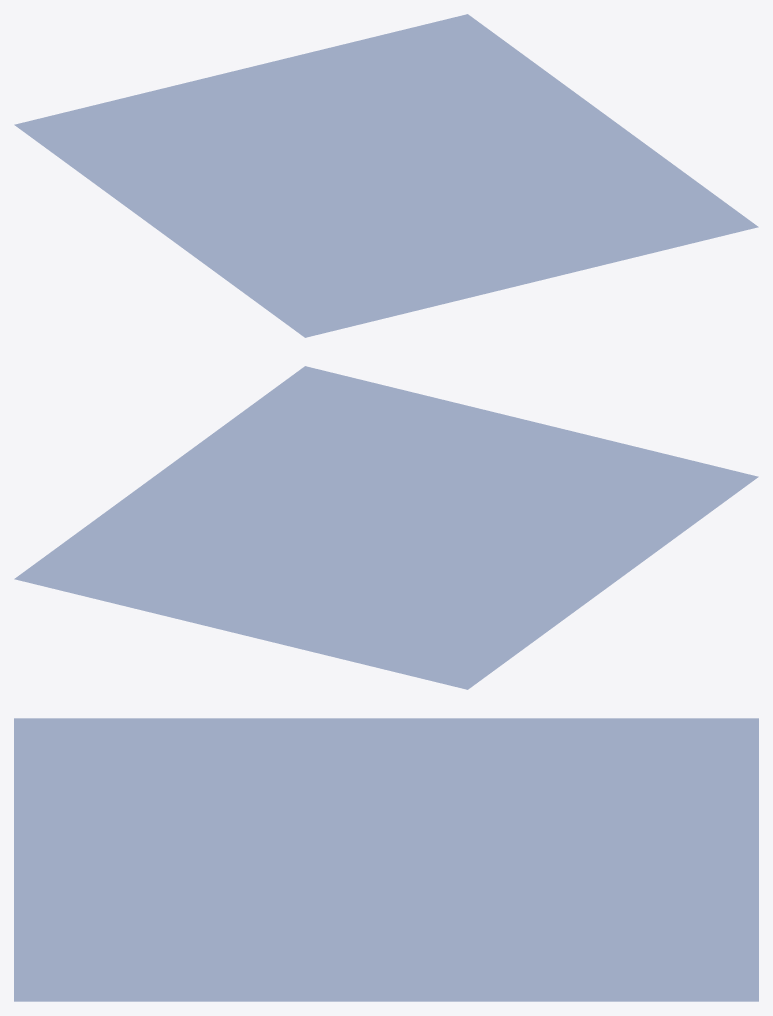
File: krush.glb
The picture shows the model from 3 angles, top to bottom: view 1: azimuth 30°, elevation 25°; view 2: azimuth 150°, elevation 25°; view 3: azimuth 270°, elevation 25°; orthographic projection. The views are drawn at different scales.
Parts seen in each view (by area): view 1: Plane006; view 2: Plane006; view 3: Plane006.
Part boxes in pixels (x1,y1,x2,y2): Plane006: (14, 14, 758, 337); Plane006: (14, 366, 758, 689); Plane006: (14, 718, 758, 1001).
Bounding box in the file's own units: 900 × 17.79 × 1000.
